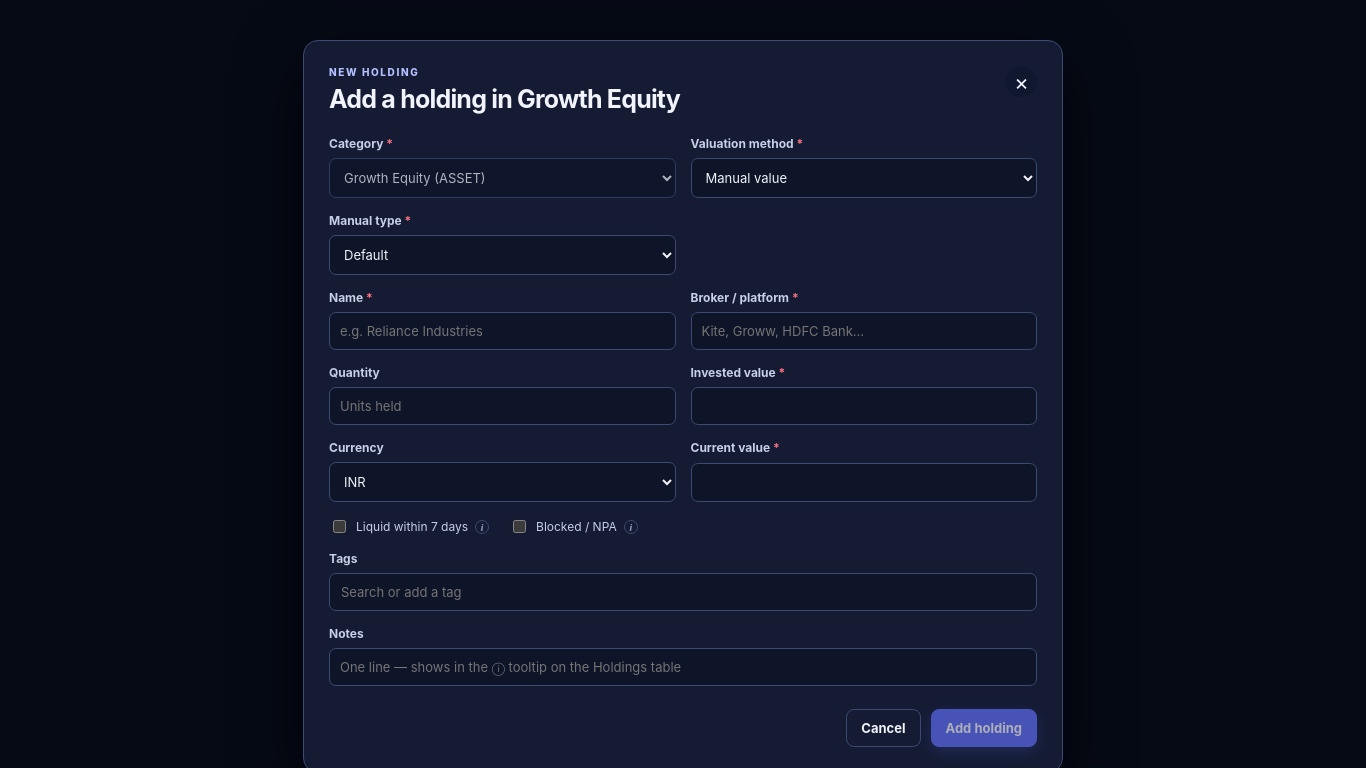
it: HoldingModal — manual types › the currency of a new typed holding starts as the display currency
Expected: the dropdown labelled "Currency" shows "INR", [329,462,676,502]
Select "Provident fund" in the dropdown labelled "Manual type *". click: (502, 255)
box: [329,235,676,275]
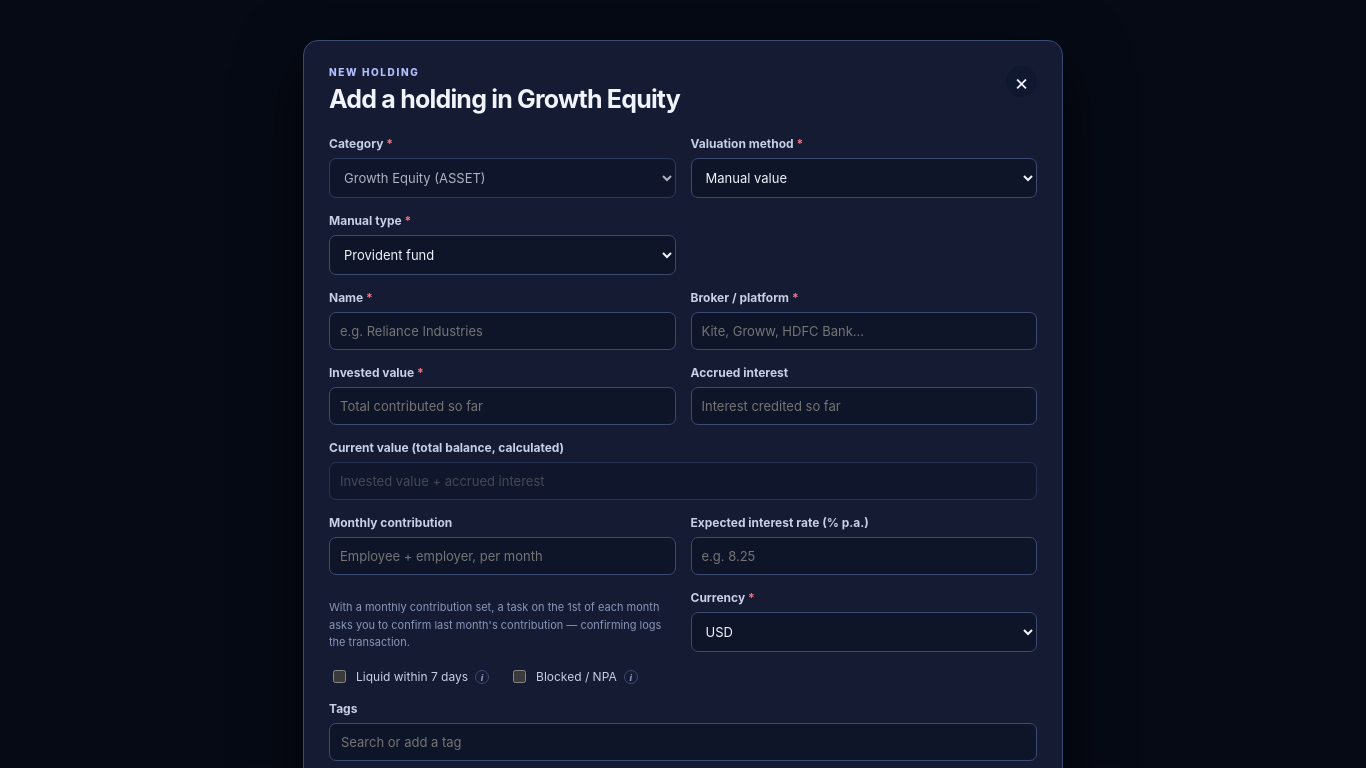
Expected: the dropdown labelled "Currency *" shows "USD", [690,612,1037,652]
